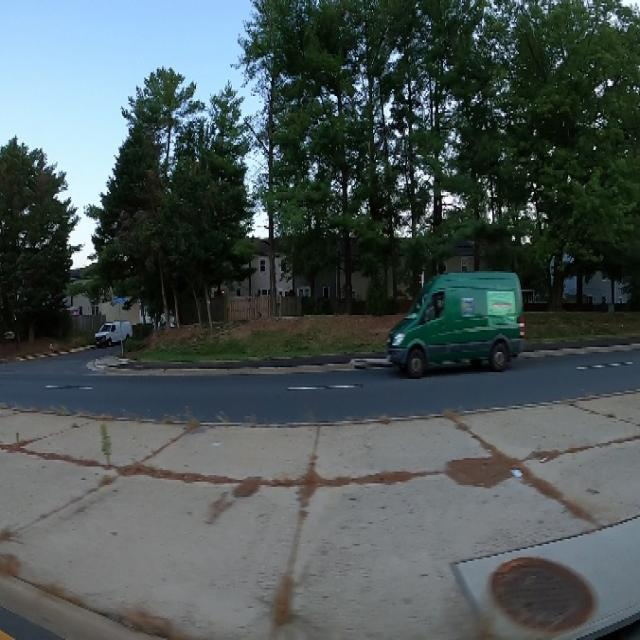car: (379, 249, 531, 396), (93, 317, 133, 345)
